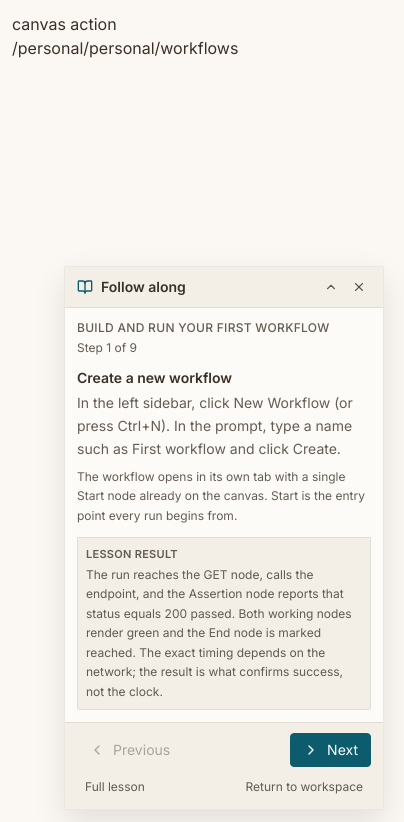
Test: TutorialCompanionHost › navigates to the full lesson in-app
Click the button "Full lesson": (115, 787) [77, 775, 153, 799]
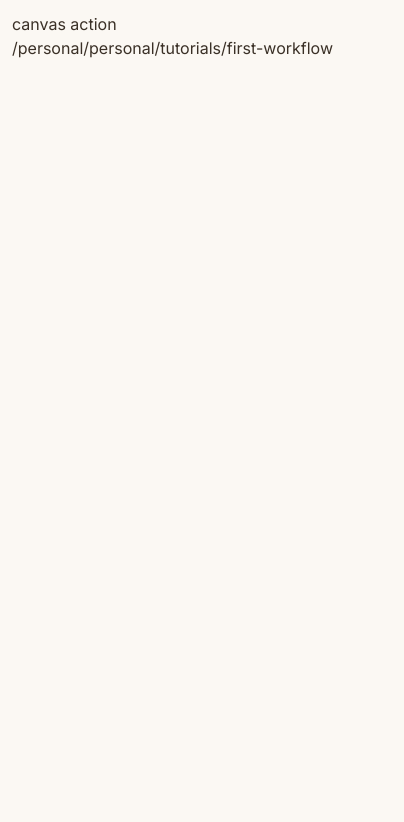
Expected: the text with test id "location-probe" reads "/personal/personal/tutorials/first-workflow", [12, 38, 333, 58]
